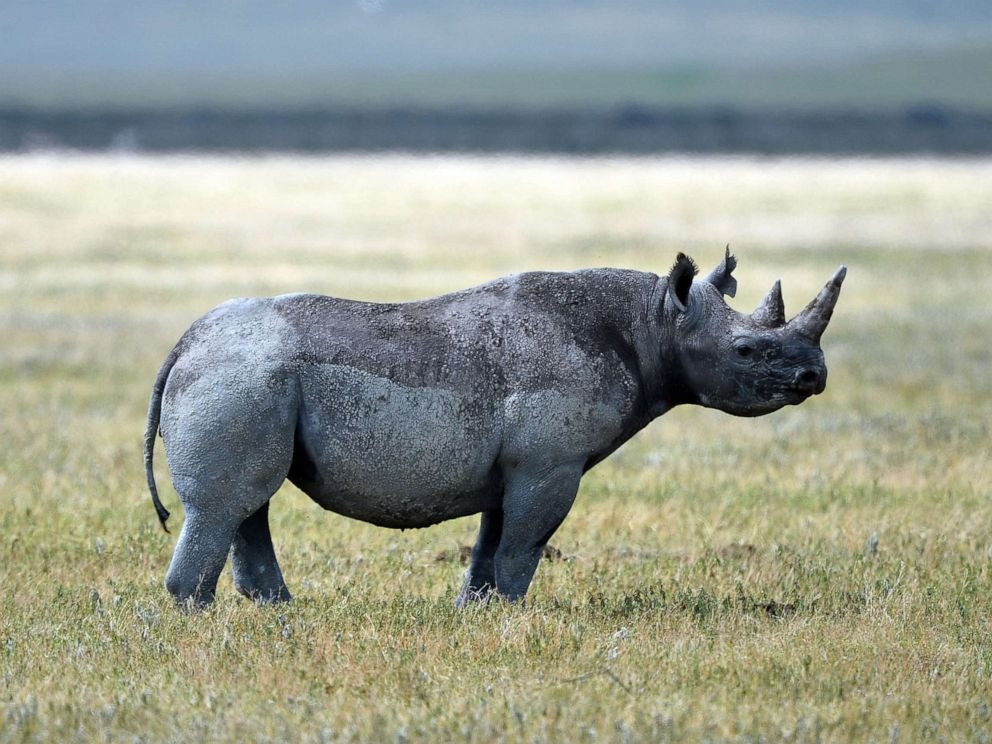rhino: (143, 244, 846, 605)
